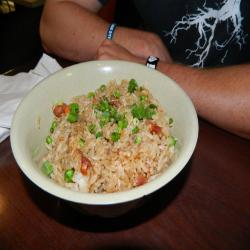rice: (40, 81, 175, 201)
